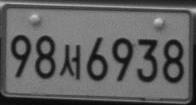3: (136, 38, 158, 82)
6: (85, 36, 108, 81)
8: (161, 38, 185, 84), (34, 34, 56, 79)
9: (10, 33, 32, 78), (111, 36, 133, 81)
서: (59, 44, 80, 80)
